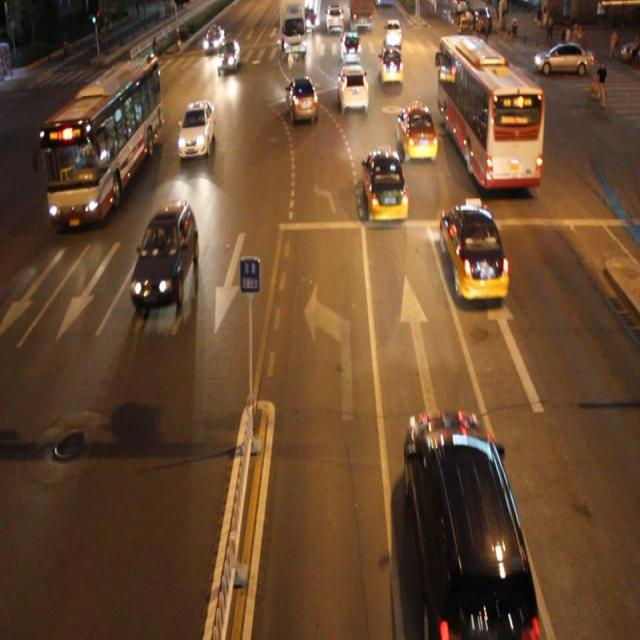car: (405, 406, 540, 640), (131, 198, 199, 305), (439, 203, 507, 298), (361, 146, 408, 223), (178, 100, 215, 158), (397, 104, 434, 160), (336, 63, 368, 114), (284, 76, 318, 123), (378, 46, 402, 84)
van: (46, 52, 158, 225), (436, 36, 540, 192)
